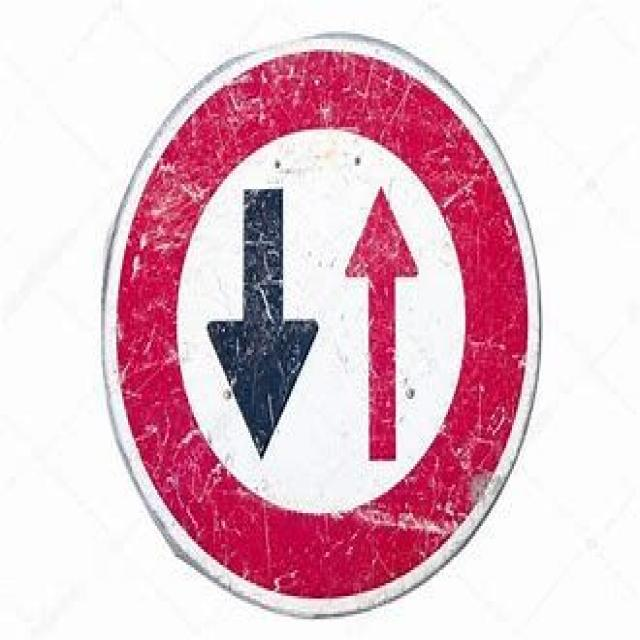PRIORITY_FOR_ONCOMING_VEHICLES: (99, 29, 541, 614)
